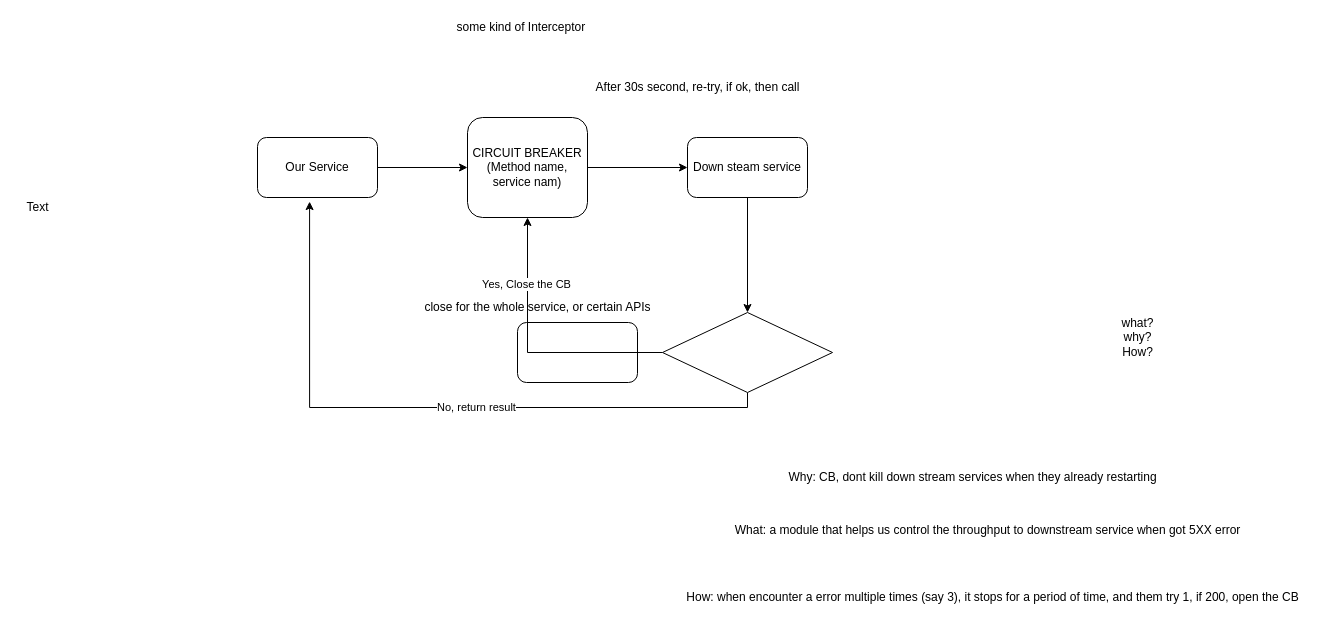
Some shapes in this 1324 by 624 pixel diagram are drawn without their labels. The centre of each missing label's shape, as x and y in pixels:
Is service died?: the point at 747,352
Retry Plugin: the point at 577,352
